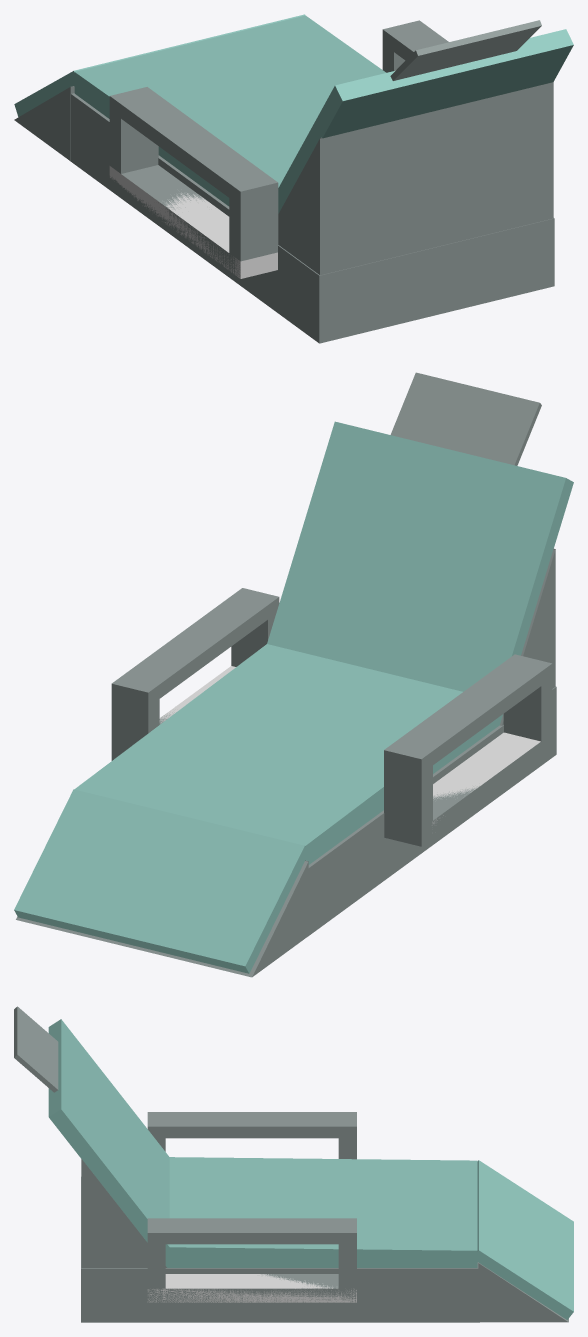
File: dişçi koltuğu.fbx
3 renders of one model, top to bottom at view 1: azimuth 30°, elevation 25°; view 2: azimuth 150°, elevation 25°; view 3: azimuth 270°, elevation 25°, orthographic. The views are drawn at different scales.
Visible parts, largest first — view 1: dişçi koltuğu, Cube.007; view 2: dişçi koltuğu, Cube.007; view 3: dişçi koltuğu, Cube.007.
Boxes of the visible parts, <box> form: dişçi koltuğu: <box>14,14,573,343</box>; Cube.007: <box>109,166,277,278</box>; dişçi koltuğu: <box>14,372,573,977</box>; Cube.007: <box>159,666,540,825</box>; dişçi koltuğu: <box>14,1006,573,1322</box>; Cube.007: <box>147,1274,356,1302</box>.
Size of the model in its own units: 61.29 by 58.35 by 120.
